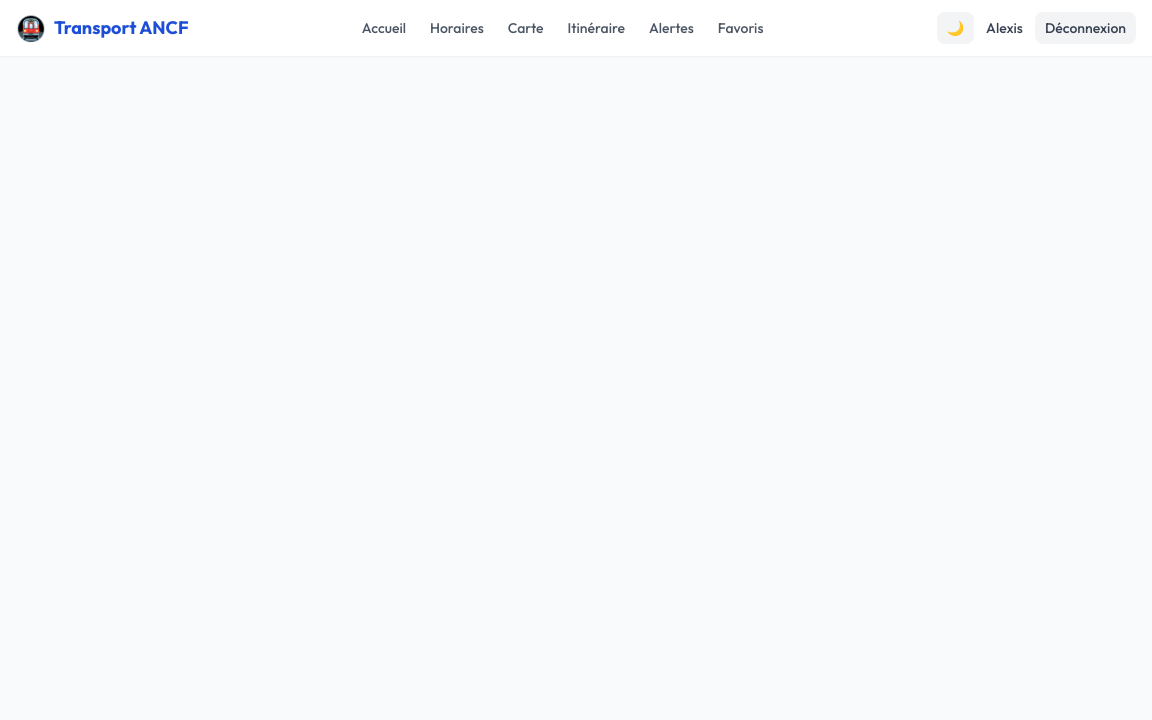
Test: confirmation avant déconnexion › demande confirmation au lieu de déconnecter immédiatement
Click the button with aria-label "Se déconnecter" at (1085, 28), box [1035,12,1136,44]
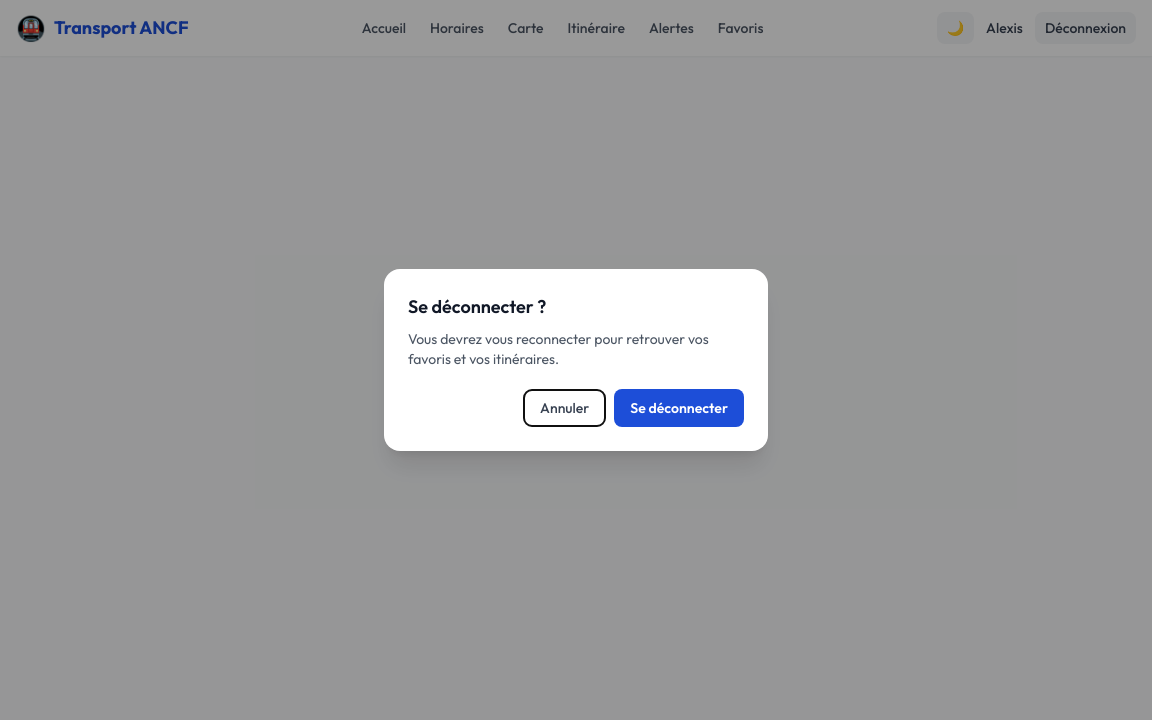
Expected: the dialog is shown, [384,269,768,451]
